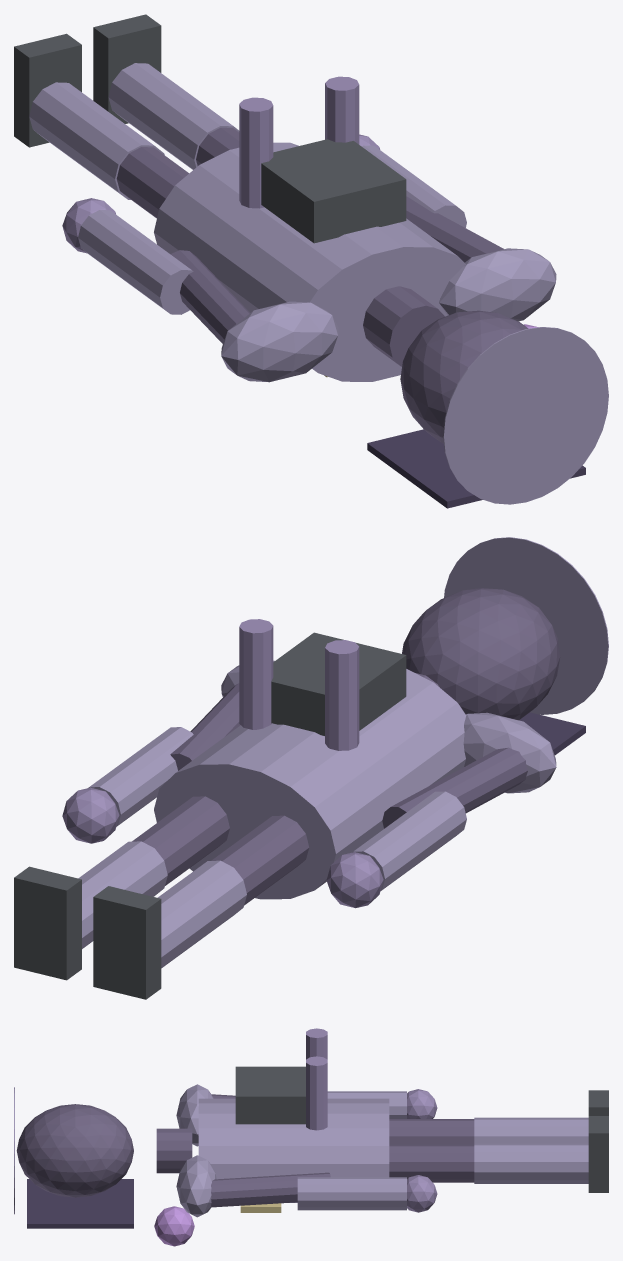
File: SWN-043_nyx_alara.glb
The picture shows the model from 3 angles, top to bottom: view 1: azimuth 30°, elevation 25°; view 2: azimuth 150°, elevation 25°; view 3: azimuth 270°, elevation 25°; orthographic projection. The views are drawn at different scales.
Parts seen in each view (by area): view 1: body_spine, rank_halo_ring, back_thruster_pack, head, shoulder_plate_-1, greave_-1, greave_1, shoulder_plate_1, forearm_gauntlet_-1, boot_-1, shadow_veil, boot_1 (+9 smaller); view 2: body_spine, head, rank_halo_ring, back_thruster_pack, boot_-1, boot_1, greave_-1, forearm_gauntlet_-1, thigh_1, thigh_-1, forearm_gauntlet_1, upper_arm_-1 (+8 smaller); view 3: body_spine, head, greave_1, shadow_veil, back_thruster_pack, forearm_gauntlet_1, thigh_1, greave_-1, upper_arm_1, thigh_-1, shoulder_plate_1, boot_1 (+10 smaller).
Boxes of the visible parts, left/top/right/bottom form: body_spine: left=154, top=142, right=465, bottom=381; rank_halo_ring: left=443, top=327, right=608, bottom=504; back_thruster_pack: left=261, top=139, right=406, bottom=243; head: left=400, top=310, right=528, bottom=443; shoulder_plate_-1: left=221, top=301, right=338, bottom=382; greave_-1: left=29, top=82, right=164, bottom=199; greave_1: left=108, top=63, right=239, bottom=169; shoulder_plate_1: left=439, top=248, right=556, bottom=321; forearm_gauntlet_-1: left=78, top=210, right=193, bottom=314; boot_-1: left=14, top=33, right=81, bottom=147; shadow_veil: left=367, top=429, right=585, bottom=508; boot_1: left=93, top=14, right=161, bottom=123; body_spine: left=154, top=669, right=466, bottom=899; head: left=402, top=588, right=560, bottom=720; rank_halo_ring: left=444, top=537, right=608, bottom=714; back_thruster_pack: left=271, top=632, right=406, bottom=735; boot_-1: left=93, top=886, right=161, bottom=999; boot_1: left=14, top=866, right=81, bottom=980; greave_-1: left=157, top=860, right=246, bottom=968; forearm_gauntlet_-1: left=352, top=791, right=466, bottom=890; thigh_1: left=132, top=796, right=229, bottom=885; thigh_-1: left=211, top=815, right=309, bottom=905; forearm_gauntlet_1: left=88, top=727, right=193, bottom=826; upper_arm_-1: left=382, top=747, right=527, bottom=828; body_spine: left=198, top=1098, right=389, bottom=1202; head: left=16, top=1104, right=133, bottom=1197; greave_1: left=474, top=1143, right=588, bottom=1183; shadow_veil: left=27, top=1179, right=133, bottom=1228; back_thruster_pack: left=235, top=1066, right=305, bottom=1124; forearm_gauntlet_1: left=297, top=1177, right=406, bottom=1210; thigh_1: left=389, top=1144, right=474, bottom=1182; greave_-1: left=474, top=1117, right=588, bottom=1143; upper_arm_1: left=211, top=1172, right=330, bottom=1207; thigh_-1: left=389, top=1119, right=474, bottom=1144; shoulder_plate_1: left=176, top=1155, right=216, bottom=1217; boot_1: left=588, top=1116, right=608, bottom=1192.
Size of the model in its own units: 1.02 by 0.7 by 2.34.
